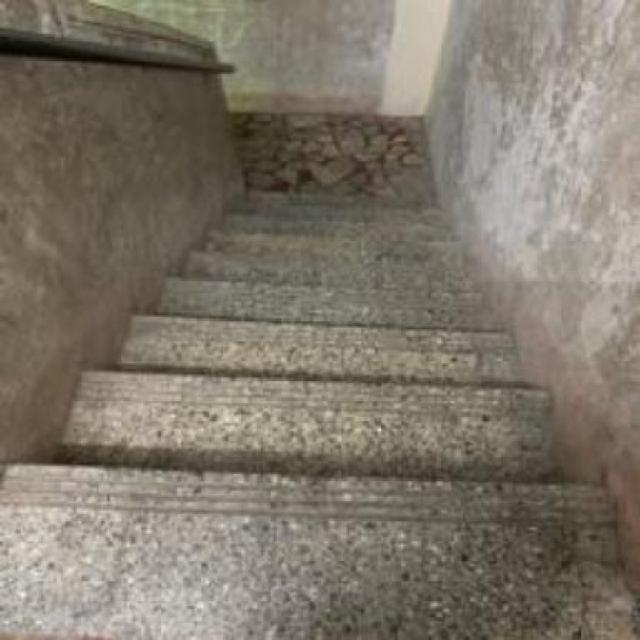stair: (22, 169, 616, 537)
